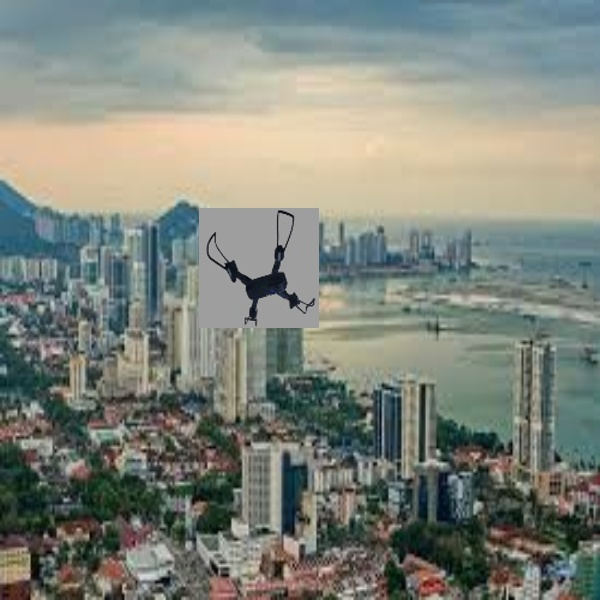drone: (201, 201, 317, 328)
